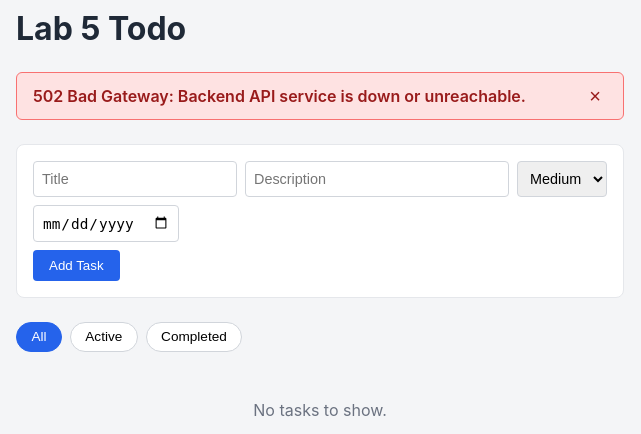
Scenario: App integration › dismissing the real ErrorBanner clears it from the DOM
The image size is (641, 434).
expect the text "502 Bad Gateway: Backend API service is down or unreachable." is shown: met, box [33,86,526,106]
Click the button named "dismiss".
click(595, 96)  # box [583,85,607,107]
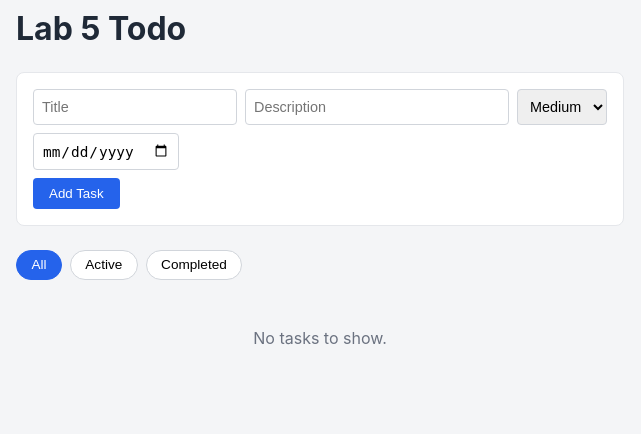
expect the text "502 Bad Gateway: Backend API service is down or unreachable." is gone: met
